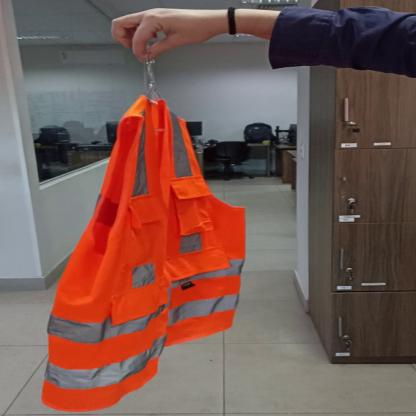colete: (38, 96, 252, 415)
